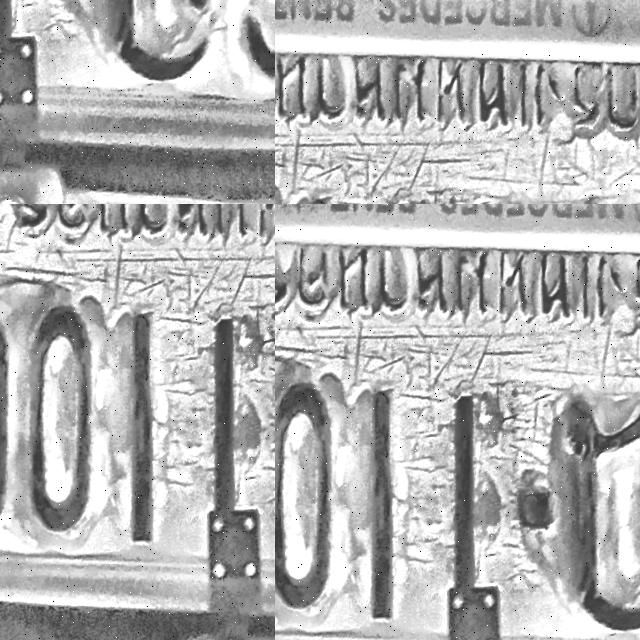license-plate: (275, 204, 640, 640), (0, 204, 275, 640), (258, 138, 275, 204)
